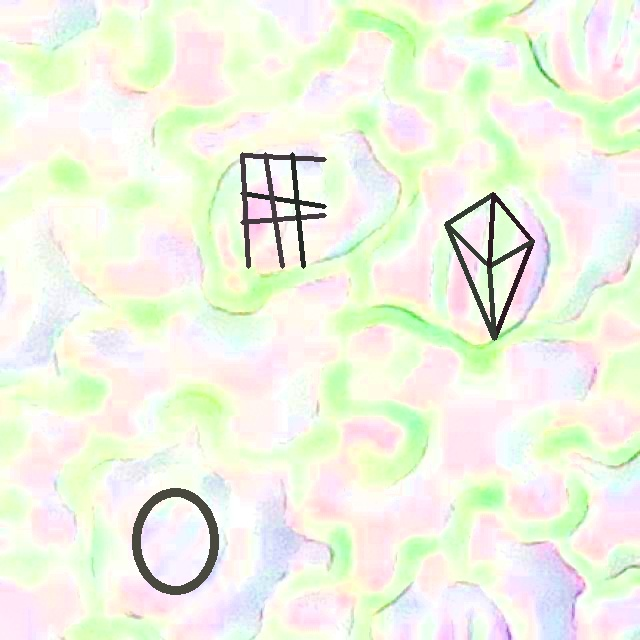open: (445, 193, 533, 339), (241, 153, 326, 268), (131, 487, 219, 595)
